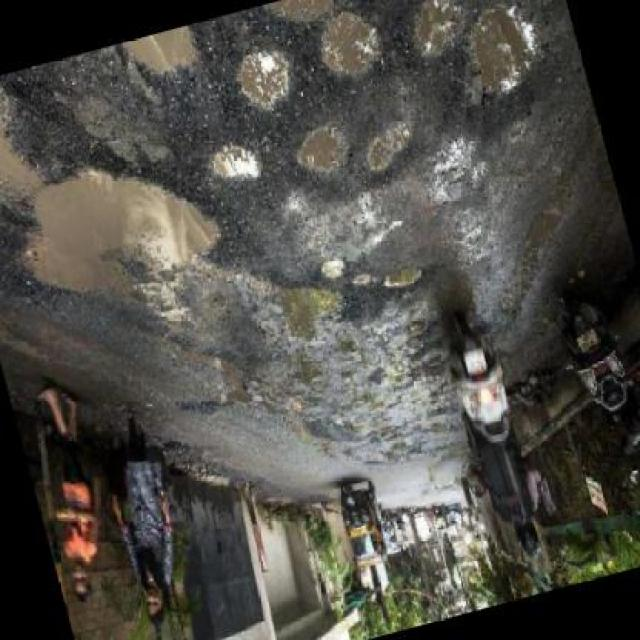pothole: (0, 137, 238, 337), (438, 0, 564, 129), (240, 259, 358, 366), (116, 29, 209, 102), (311, 8, 389, 92), (0, 74, 42, 208), (231, 47, 303, 124), (404, 0, 474, 71), (352, 116, 423, 186), (288, 123, 360, 189), (258, 0, 348, 40), (206, 141, 265, 194), (379, 262, 430, 300), (317, 254, 351, 286), (348, 271, 374, 289)
